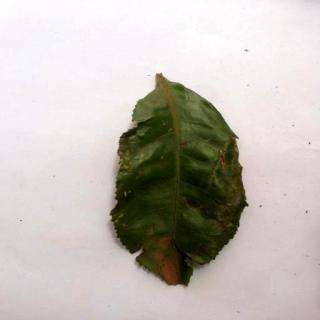Algal Leaf: (114, 75, 251, 289)
